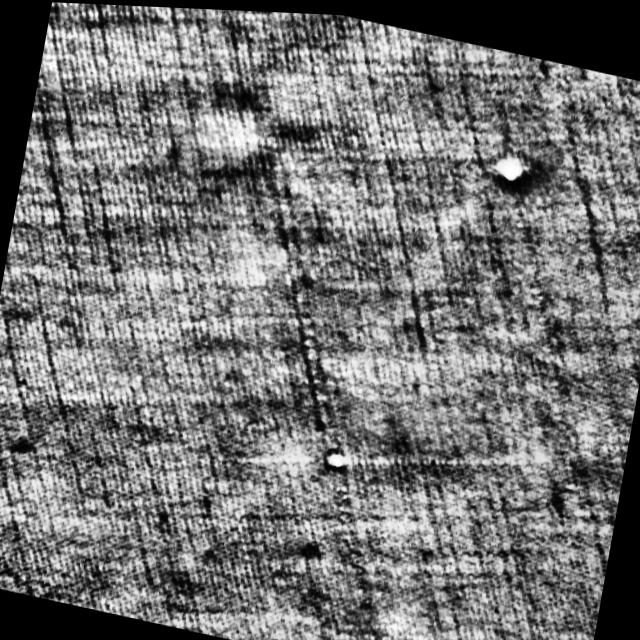Hole: (484, 139, 546, 190), (317, 439, 353, 470)
